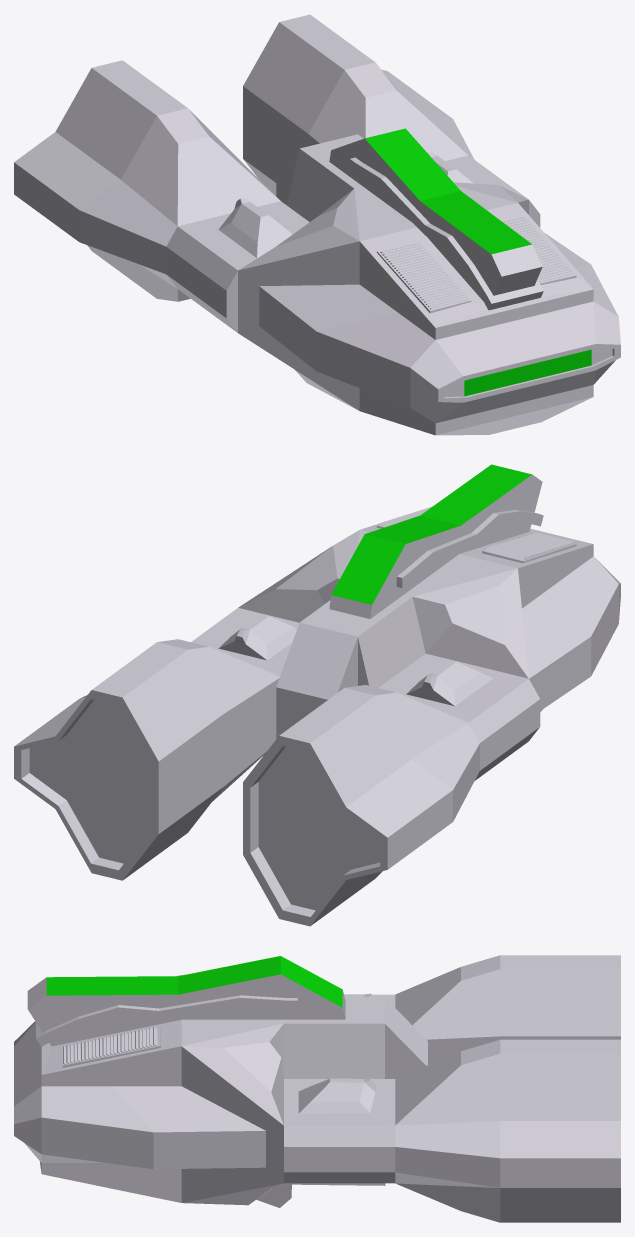
The model's file is eng.body.split.fbx.
The picture shows the model from 3 angles, top to bottom: view 1: azimuth 30°, elevation 25°; view 2: azimuth 150°, elevation 25°; view 3: azimuth 270°, elevation 25°; orthographic projection. The views are drawn at different scales.
Parts seen in each view (by area): view 1: eng.body.split; view 2: eng.body.split; view 3: eng.body.split.
Boxes of the visible parts, x1,y1,x2,y2 form: eng.body.split: [14, 14, 620, 435]; eng.body.split: [14, 464, 620, 926]; eng.body.split: [14, 955, 620, 1222].
Size of the model in its own units: 3.08 by 1.97 by 4.69.
